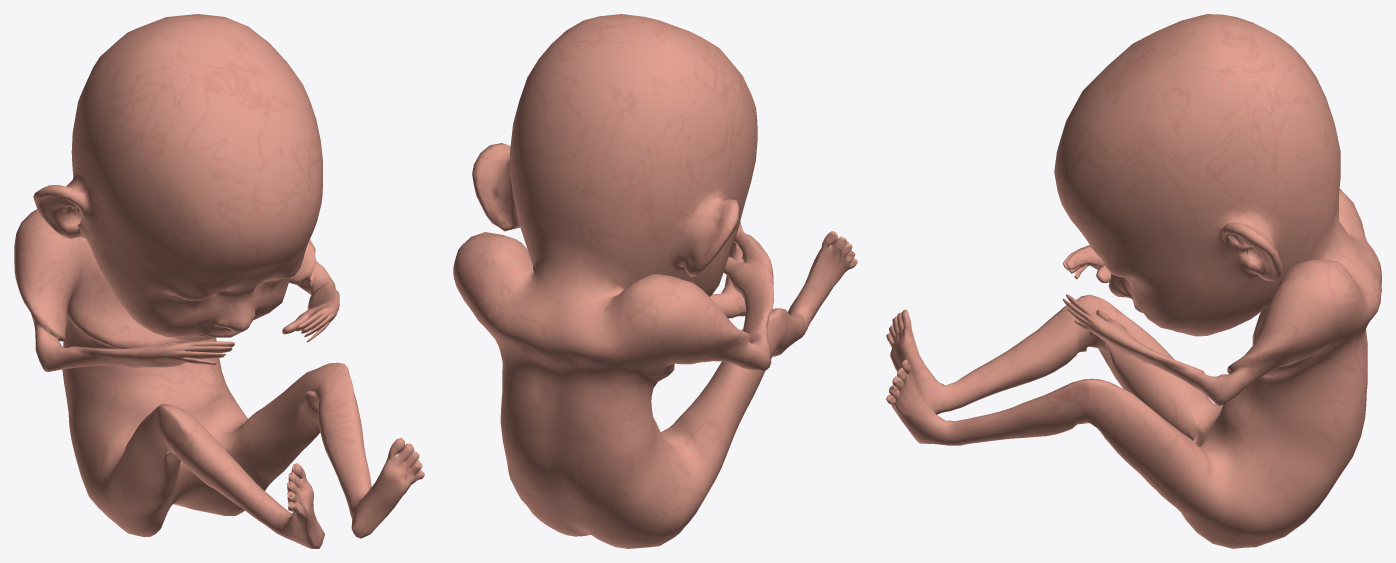
3 renders of one model, left to right at view 1: azimuth 30°, elevation 25°; view 2: azimuth 150°, elevation 25°; view 3: azimuth 270°, elevation 25°, orthographic.
Parts seen in each view (by area): view 1: Baby; view 2: Baby; view 3: Baby.
Boxes of the visible parts, left/top/right/bottom form: Baby: left=14, top=14, right=424, bottom=548; Baby: left=453, top=14, right=857, bottom=548; Baby: left=886, top=14, right=1381, bottom=548.
Size of the model in its own units: 0.0768 by 0.1261 by 0.1129.
1 material, 1 textured.
